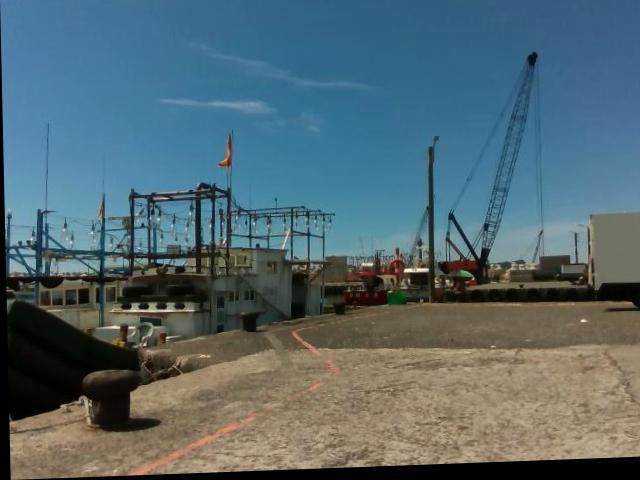pollute: (577, 322, 587, 327)
